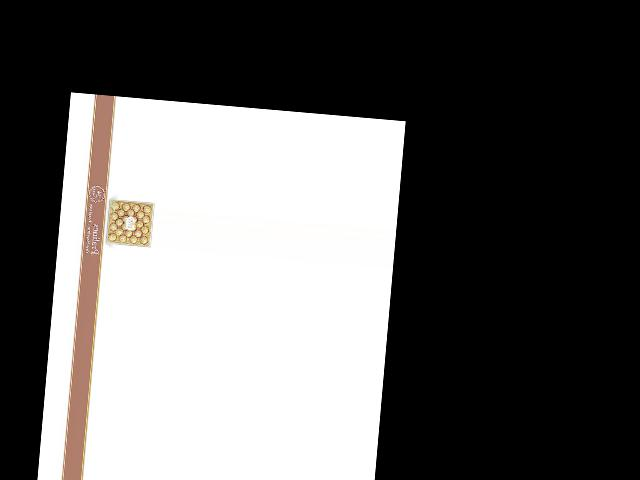chocolate: (103, 195, 157, 249)
